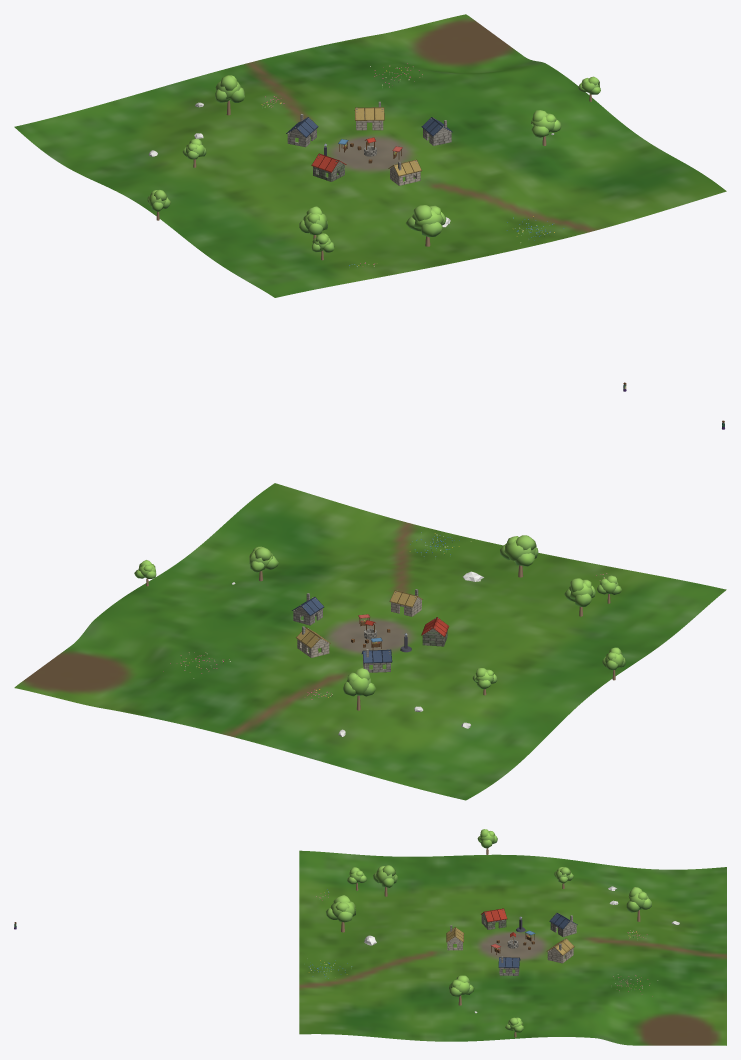
Rendered from Brookhollow.glb.
3 views of the same model, one above another, from view 1: azimuth 30°, elevation 25°; view 2: azimuth 150°, elevation 25°; view 3: azimuth 270°, elevation 25° (orthographic). The views are drawn at different scales.
Parts seen in each view (by area): view 1: Ground, Tree 6, Tree 4, House 3, House 5, House 4, House 2, Tree 1, House 1, Tree 2; view 2: Ground, Tree 6, Tree 4, House 5, Tree 2, House 2, House 1, House 3, House 4, Tree 1; view 3: Ground, Tree 6, Tree 4, House 5, House 4, House 3, Tree 2, Tree 1, House 1, House 2.
Part boxes in pixels (bbox=[...]): Ground: bbox=[14, 14, 726, 297]; Tree 6: bbox=[405, 205, 446, 246]; Tree 4: bbox=[215, 75, 244, 115]; House 3: bbox=[311, 153, 346, 181]; House 5: bbox=[354, 101, 384, 130]; House 4: bbox=[286, 114, 318, 147]; House 2: bbox=[388, 159, 421, 185]; Tree 1: bbox=[531, 110, 561, 145]; House 1: bbox=[421, 117, 452, 145]; Tree 2: bbox=[299, 206, 327, 239]; Ground: bbox=[14, 483, 726, 800]; Tree 6: bbox=[500, 535, 538, 577]; Tree 4: bbox=[343, 668, 376, 710]; House 5: bbox=[296, 626, 330, 657]; Tree 2: bbox=[564, 578, 595, 616]; House 2: bbox=[389, 589, 423, 616]; House 1: bbox=[292, 593, 324, 625]; House 3: bbox=[421, 617, 448, 646]; House 4: bbox=[361, 649, 392, 672]; Tree 1: bbox=[249, 546, 278, 581]; Ground: bbox=[299, 850, 726, 1045]; Tree 6: bbox=[325, 895, 355, 932]; Tree 4: bbox=[626, 887, 651, 921]; House 5: bbox=[546, 938, 574, 963]; House 4: bbox=[549, 913, 577, 936]; House 3: bbox=[481, 908, 507, 929]; Tree 2: bbox=[373, 865, 397, 896]; Tree 1: bbox=[449, 975, 474, 1005]; House 1: bbox=[498, 956, 520, 975]; House 2: bbox=[446, 925, 464, 950].
Size of the model in its own units: 114 by 13.05 by 183.
Materials: 277 (1 with a texture image).
